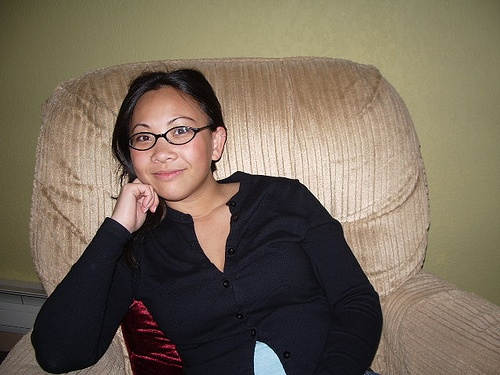head: (125, 70, 229, 202)
person: (27, 67, 387, 375)
